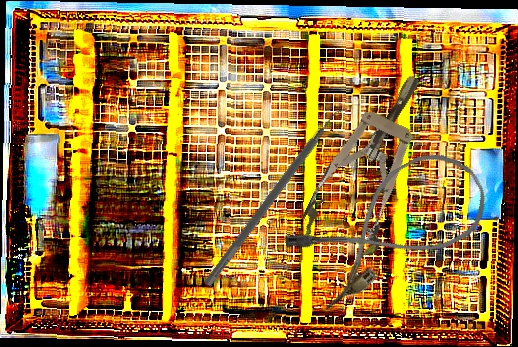Cannula: (279, 136, 501, 315)
Spatula Surgical: (203, 100, 351, 293)
Speculum: (293, 59, 453, 271)
